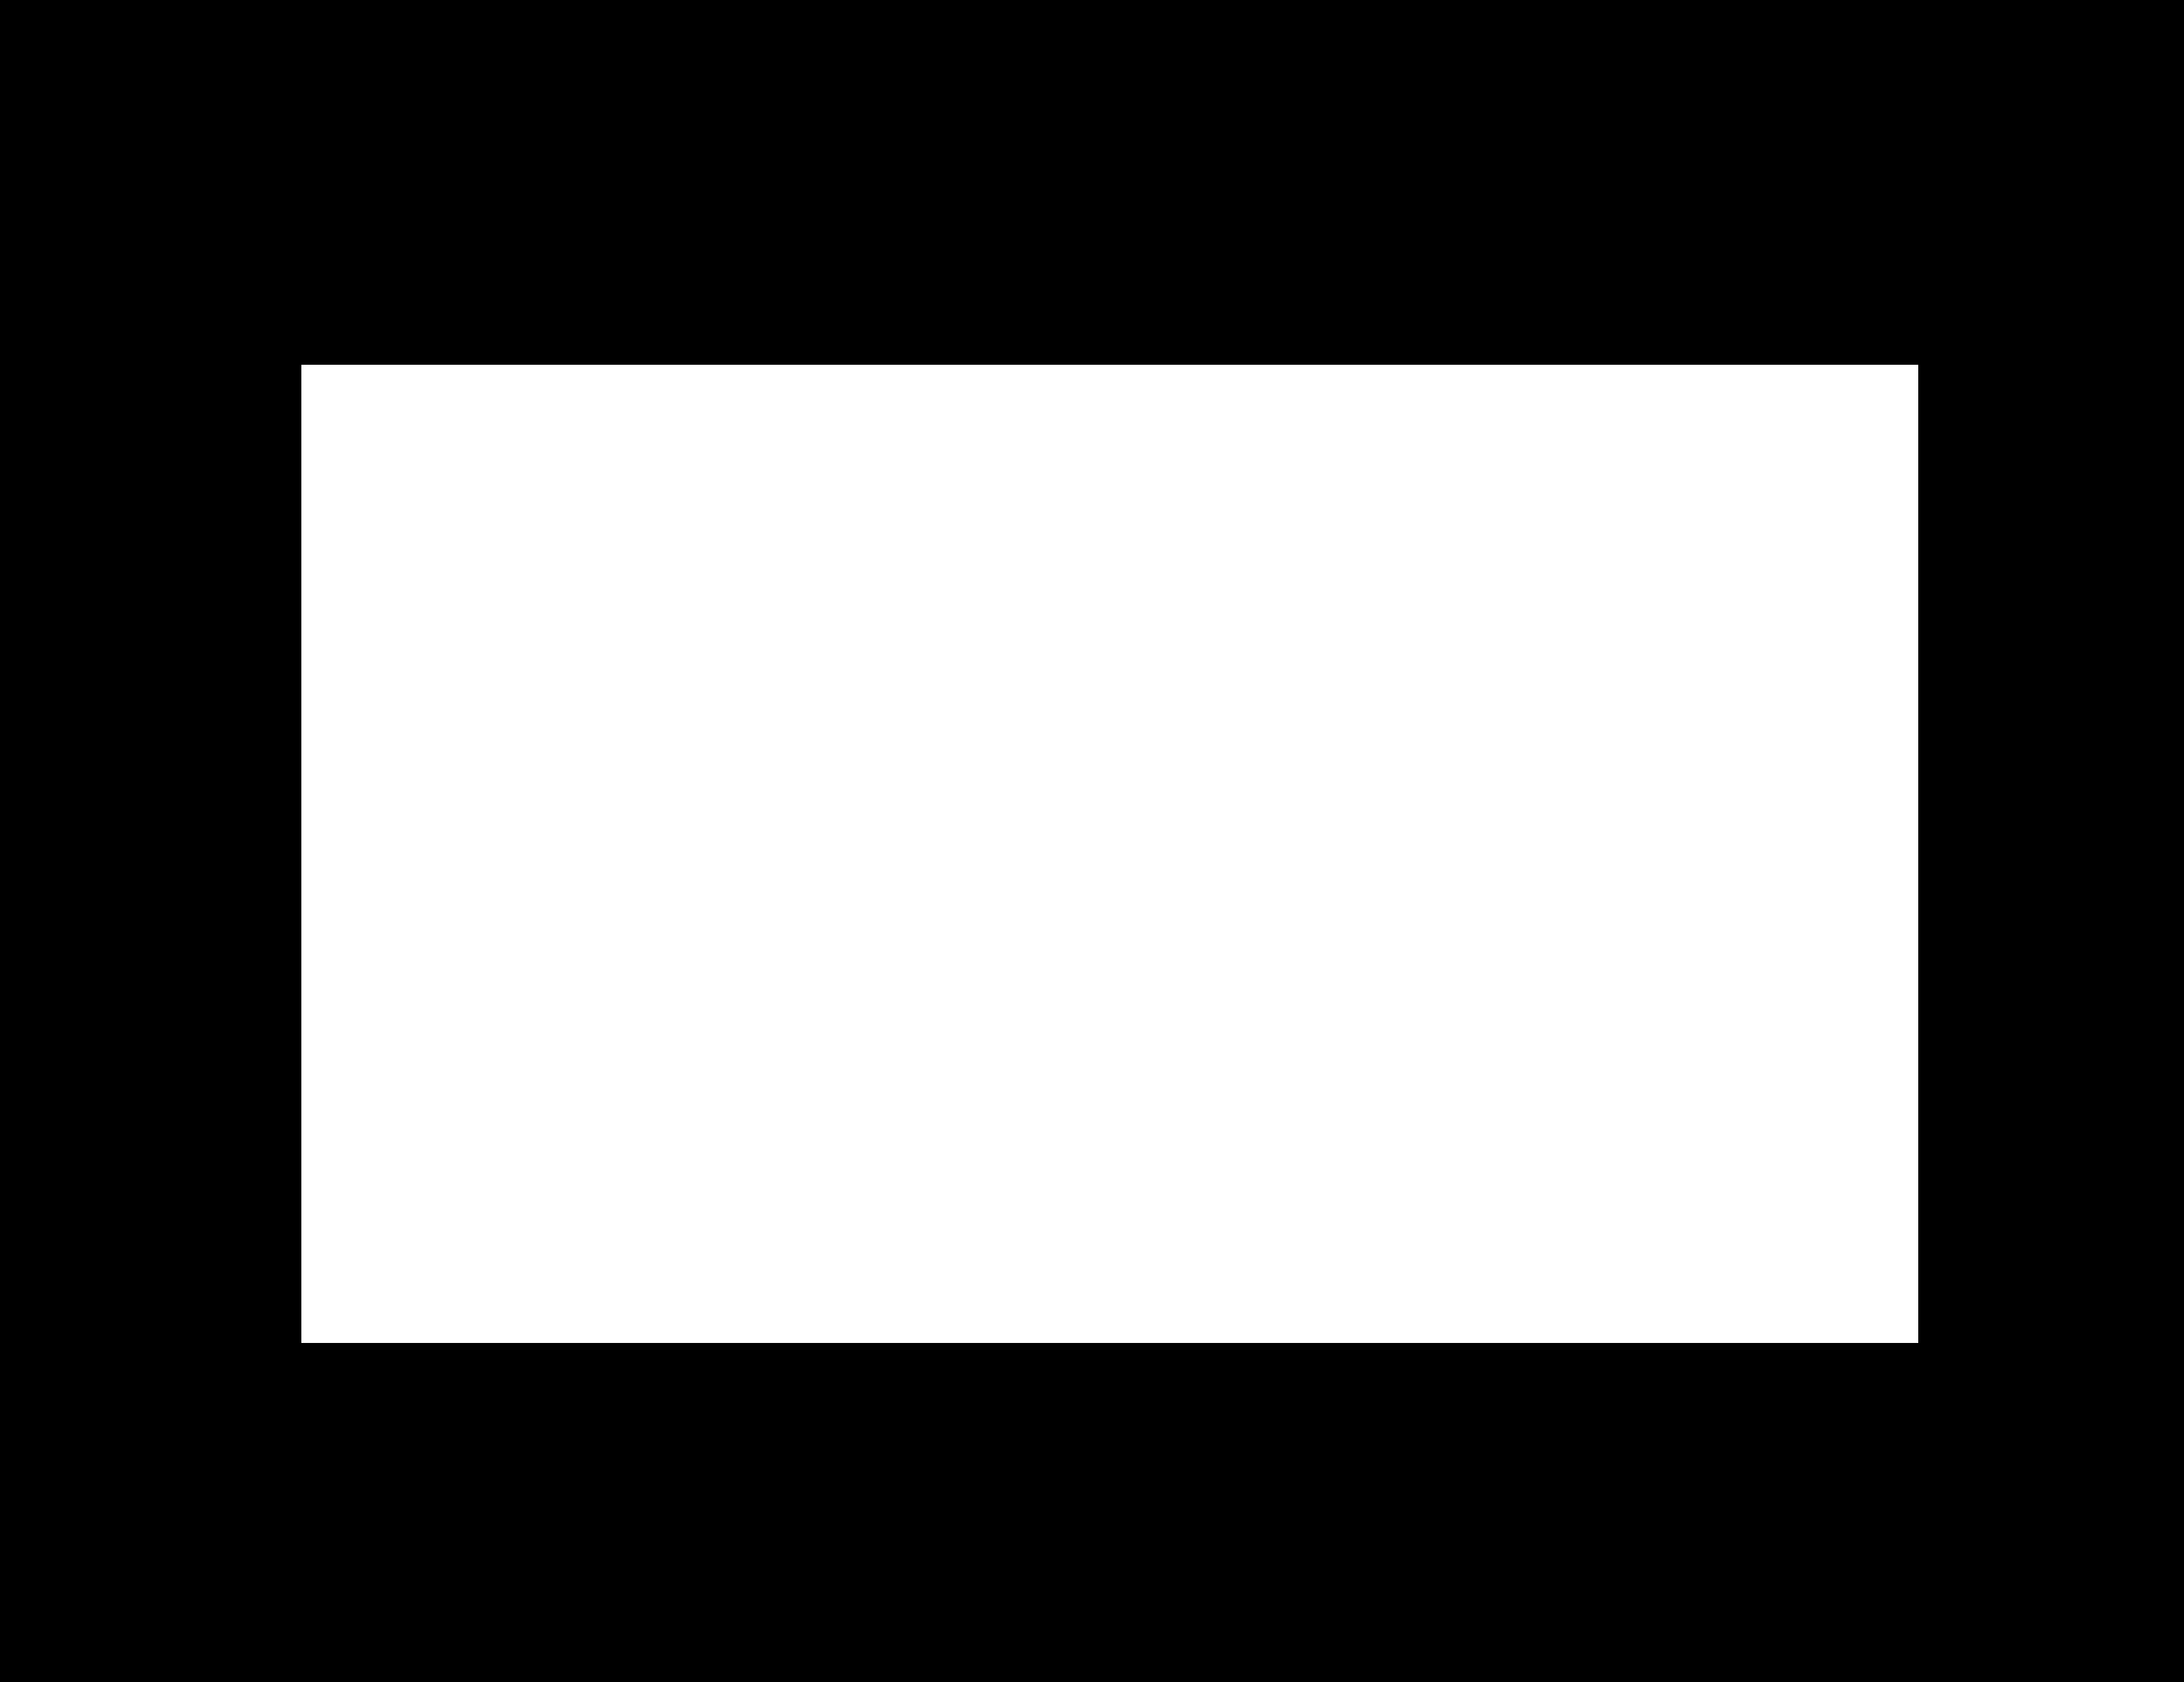table: (302, 364, 1917, 1343)
